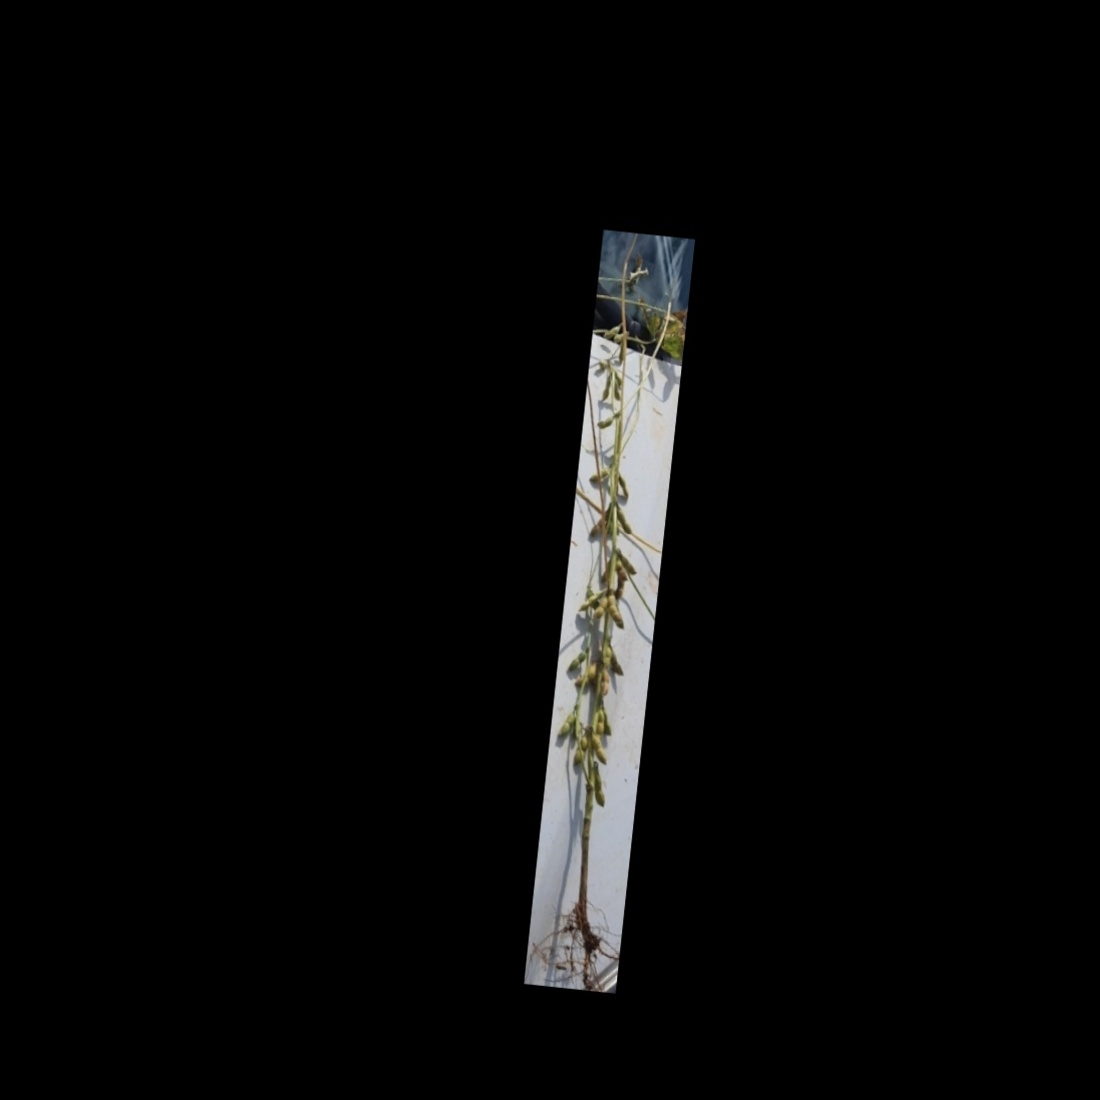pod: (589, 767, 610, 809), (575, 588, 605, 615), (573, 661, 598, 693), (555, 708, 578, 739), (589, 735, 610, 767), (566, 648, 589, 673), (572, 733, 588, 766), (599, 374, 613, 403), (599, 666, 611, 699), (587, 465, 610, 483), (593, 595, 609, 620), (616, 474, 632, 500), (602, 322, 622, 341), (593, 708, 606, 735), (594, 415, 613, 430)
soy: (532, 266, 686, 960)
